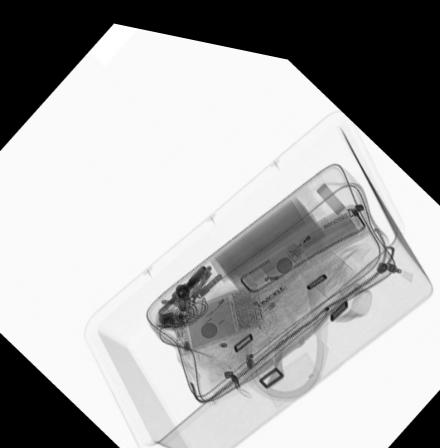Lighter: (270, 216, 317, 265)
